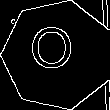O_S: (36, 30, 80, 80)
